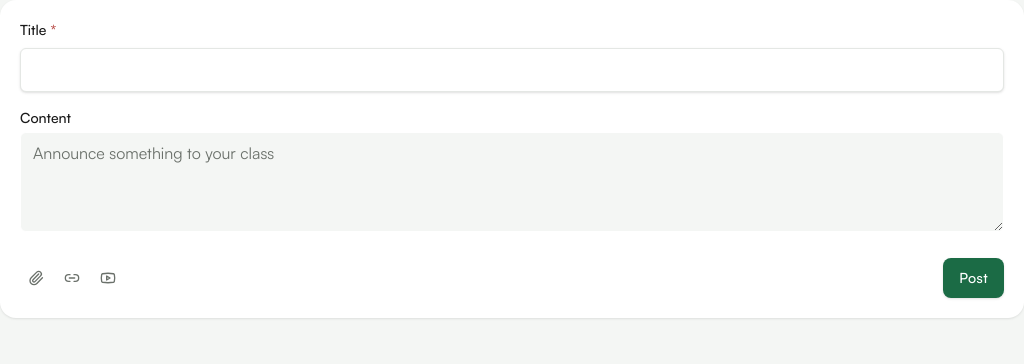
Test: CreatePostForm › shows a validation error and does not submit when title is empty
Type "Body only" into the text box labelled "Content".
click(512, 182); type("Body only")  # box x1=20 y1=132 x2=1004 y2=232
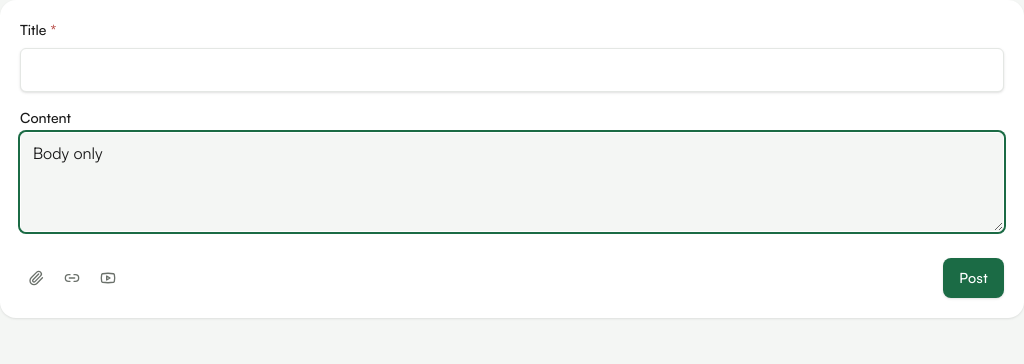
Click the button "Post".
click(974, 278)  # box x1=943 y1=258 x2=1004 y2=298
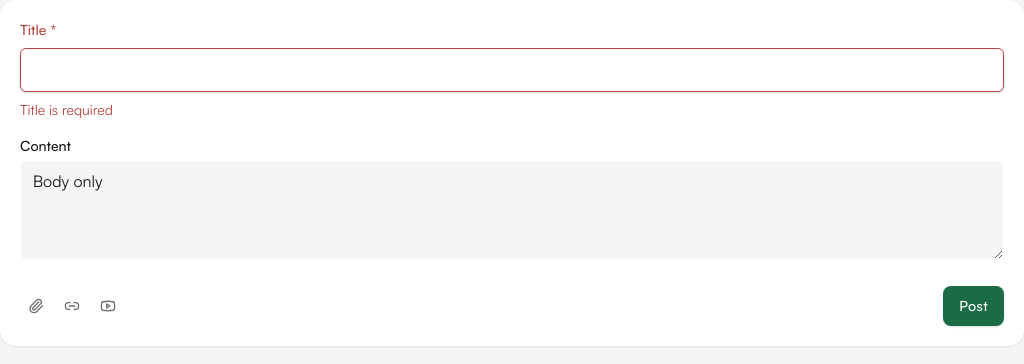
Expected: the text "Title is required" is shown, x1=20 y1=101 x2=113 y2=118
